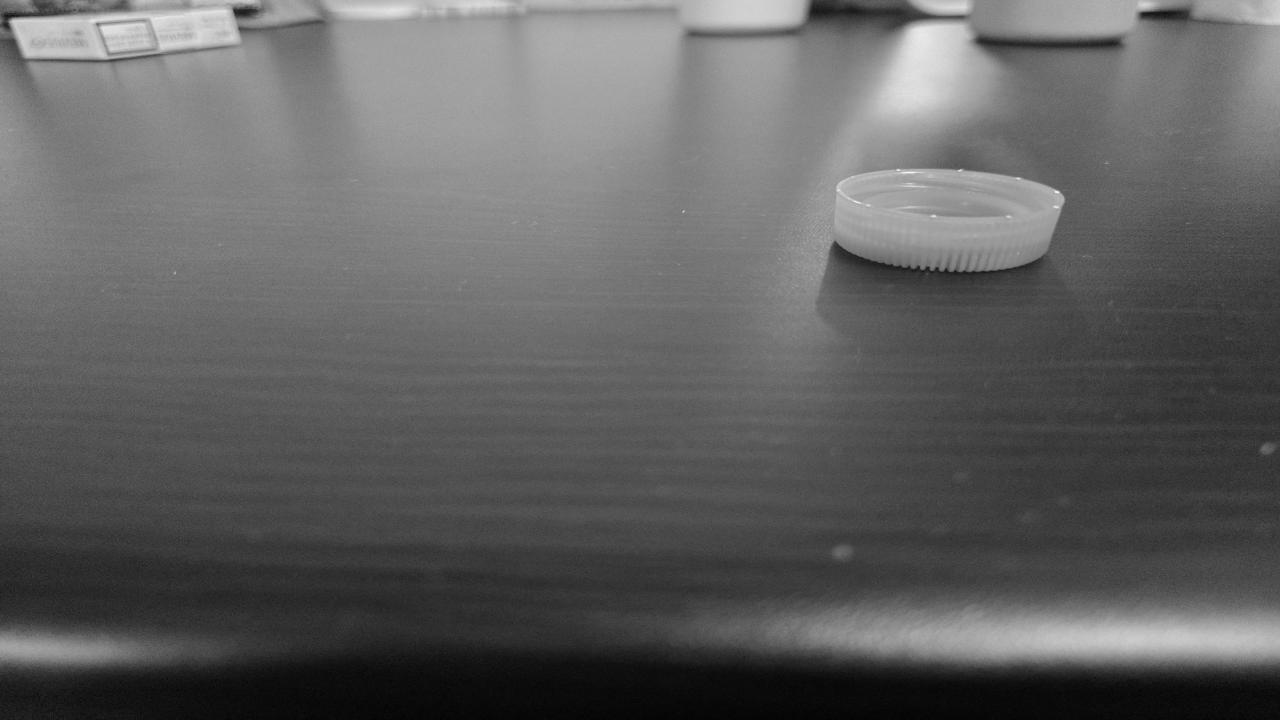bottle_cap: (834, 169, 1066, 270)
